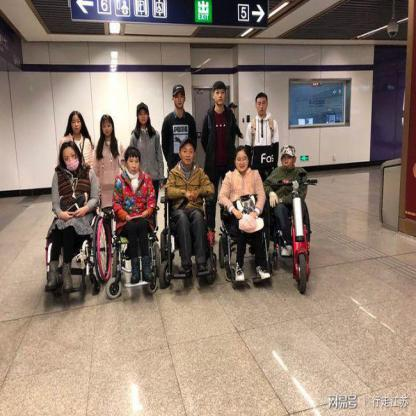wheelchair: (40, 141, 108, 301), (160, 137, 216, 298), (213, 149, 271, 291), (105, 153, 159, 305), (265, 140, 317, 293)
